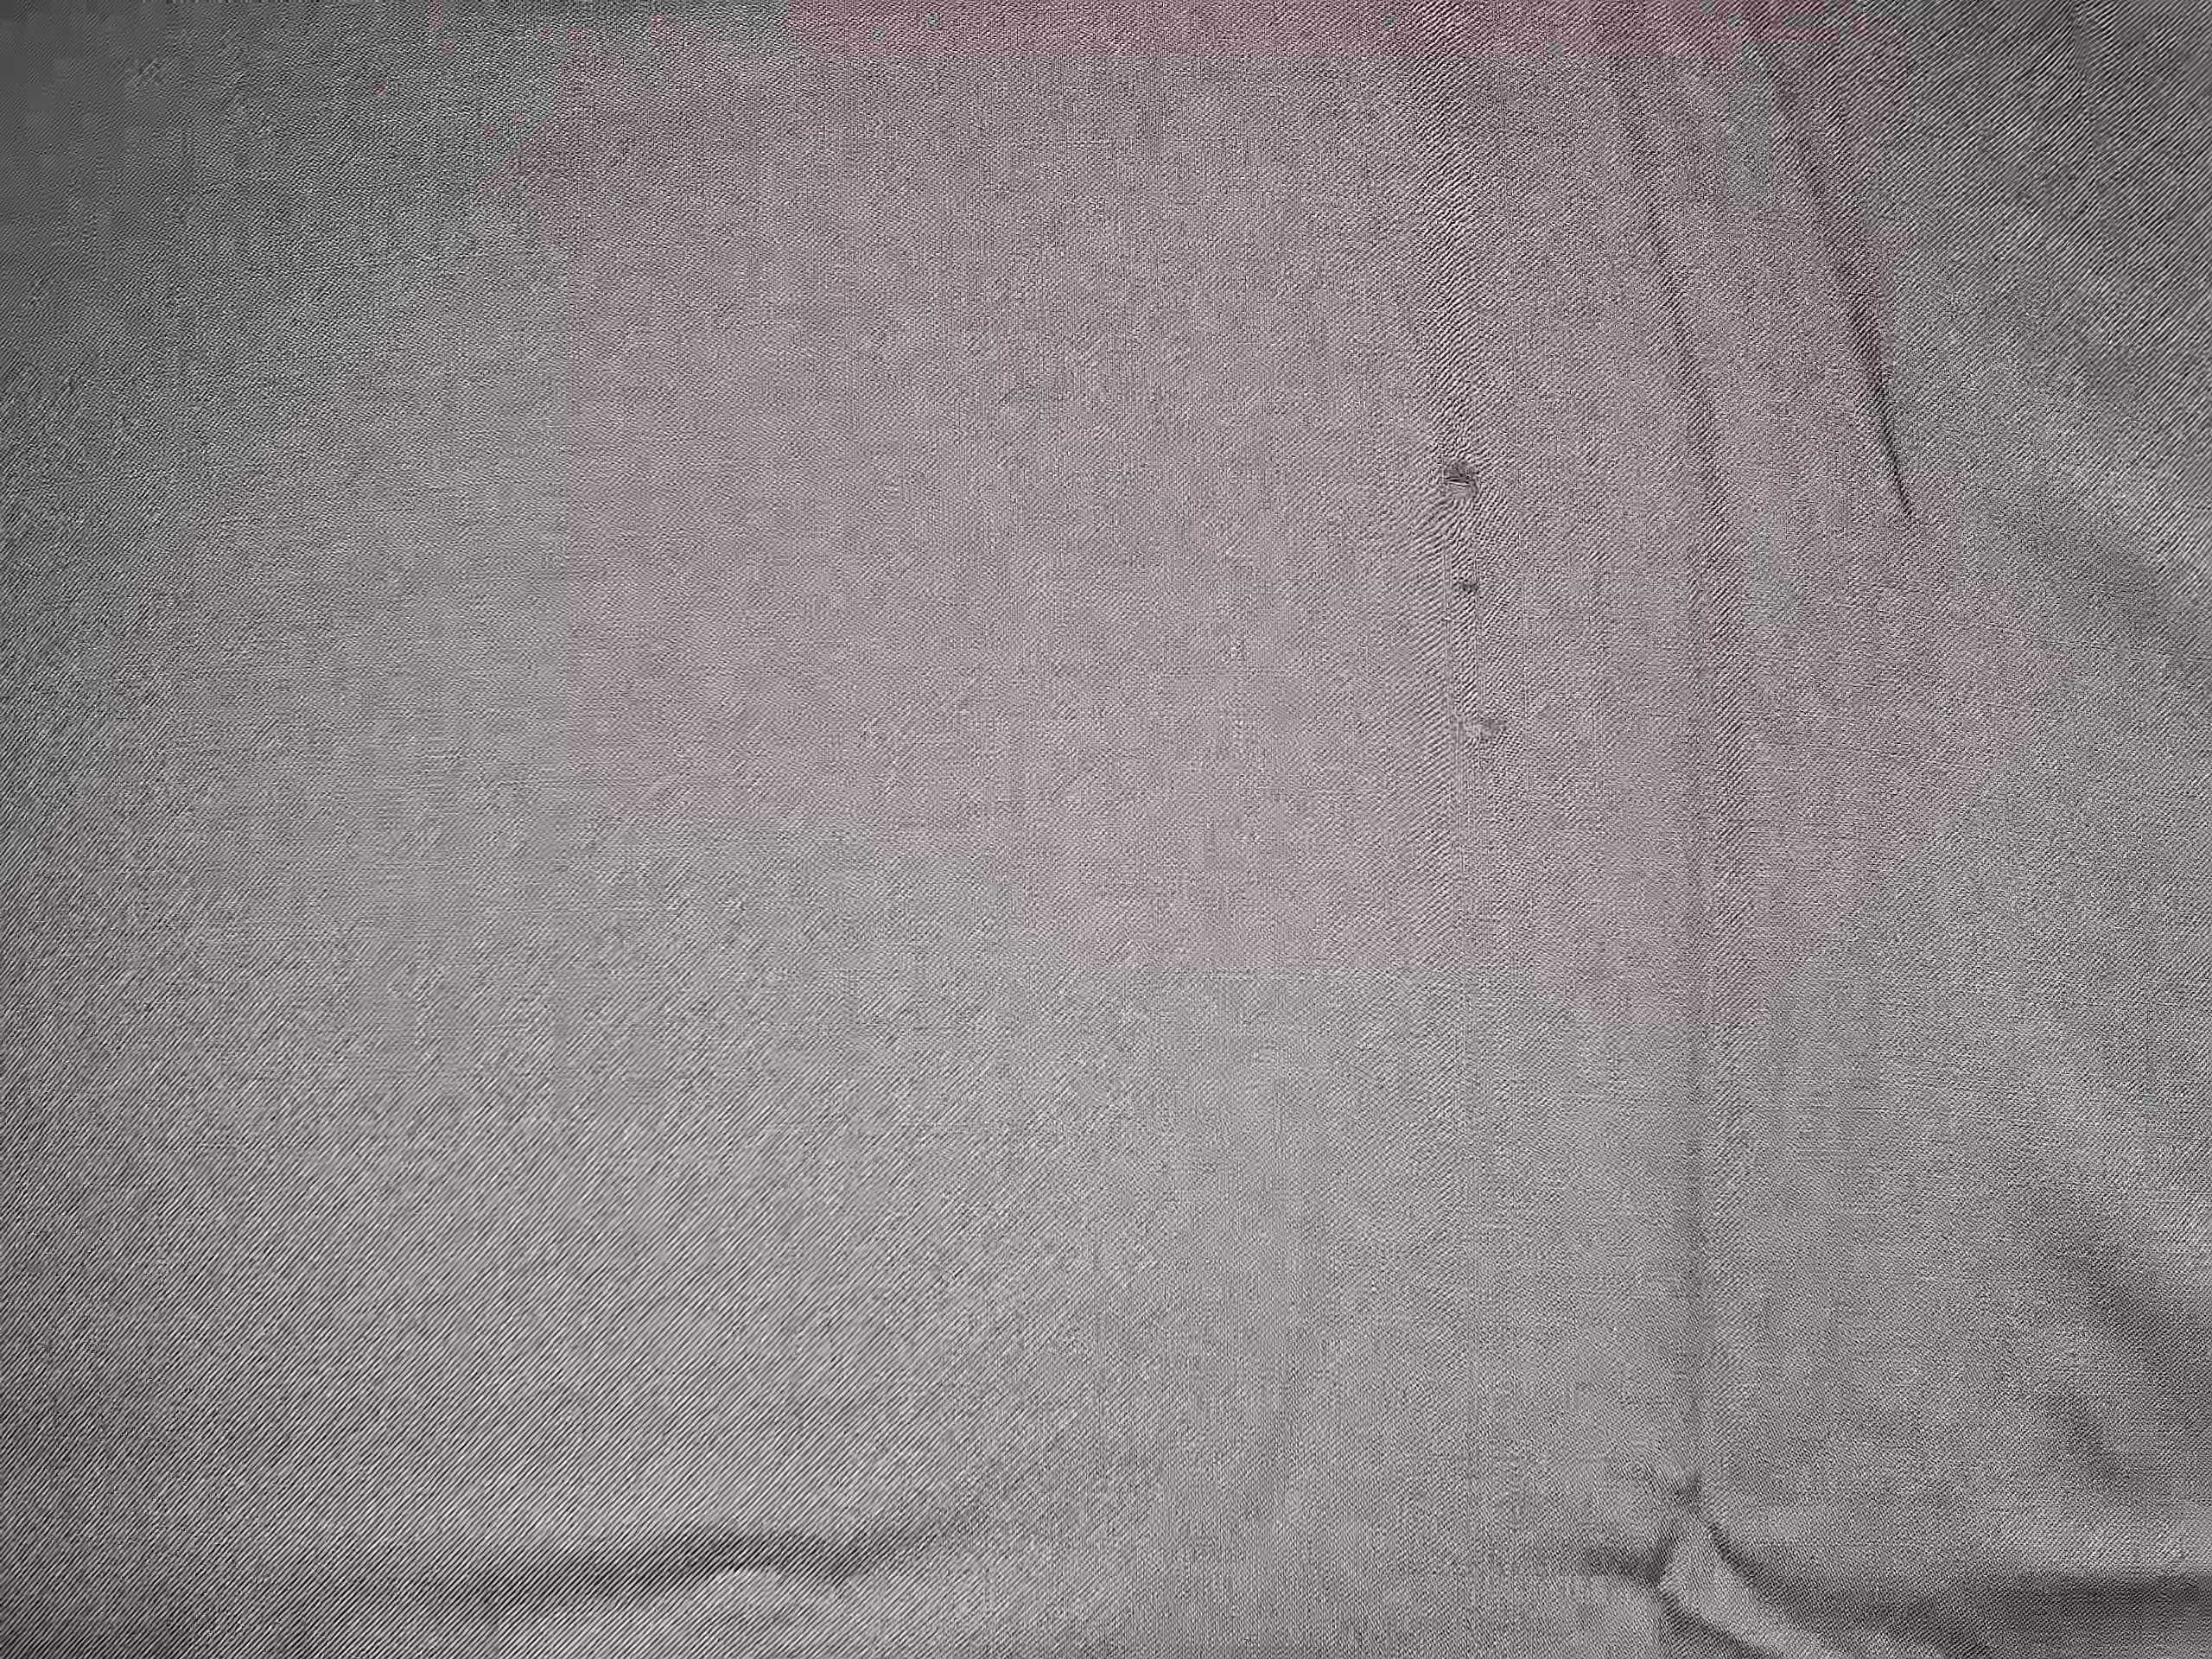brushed-hole: (1425, 439, 1494, 521), (1444, 694, 1521, 763), (1439, 559, 1498, 612)
